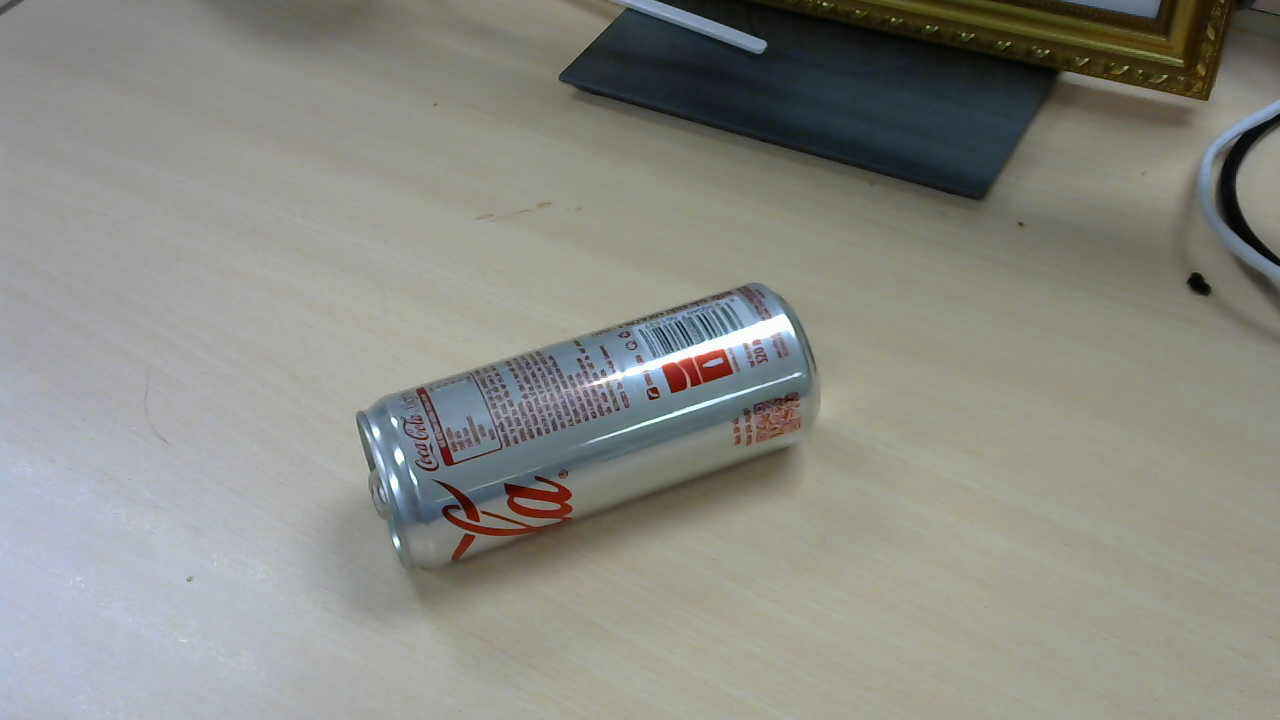Coca_Cola: (359, 285, 825, 580)
